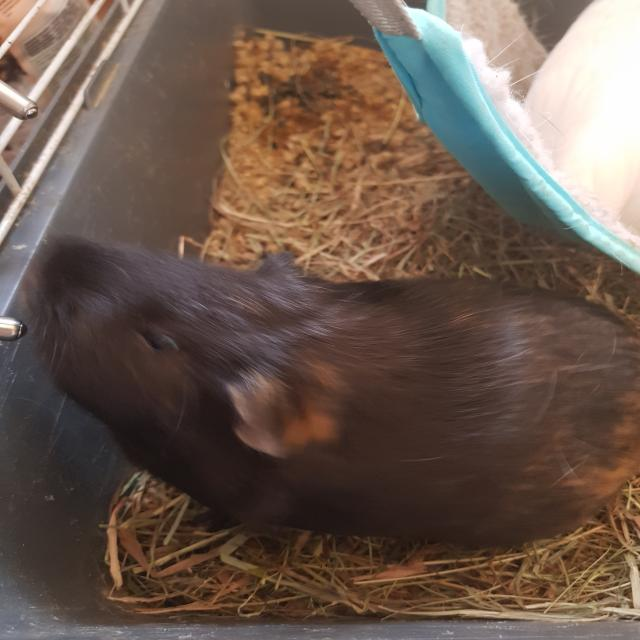guinea pig: (20, 235, 640, 550)
